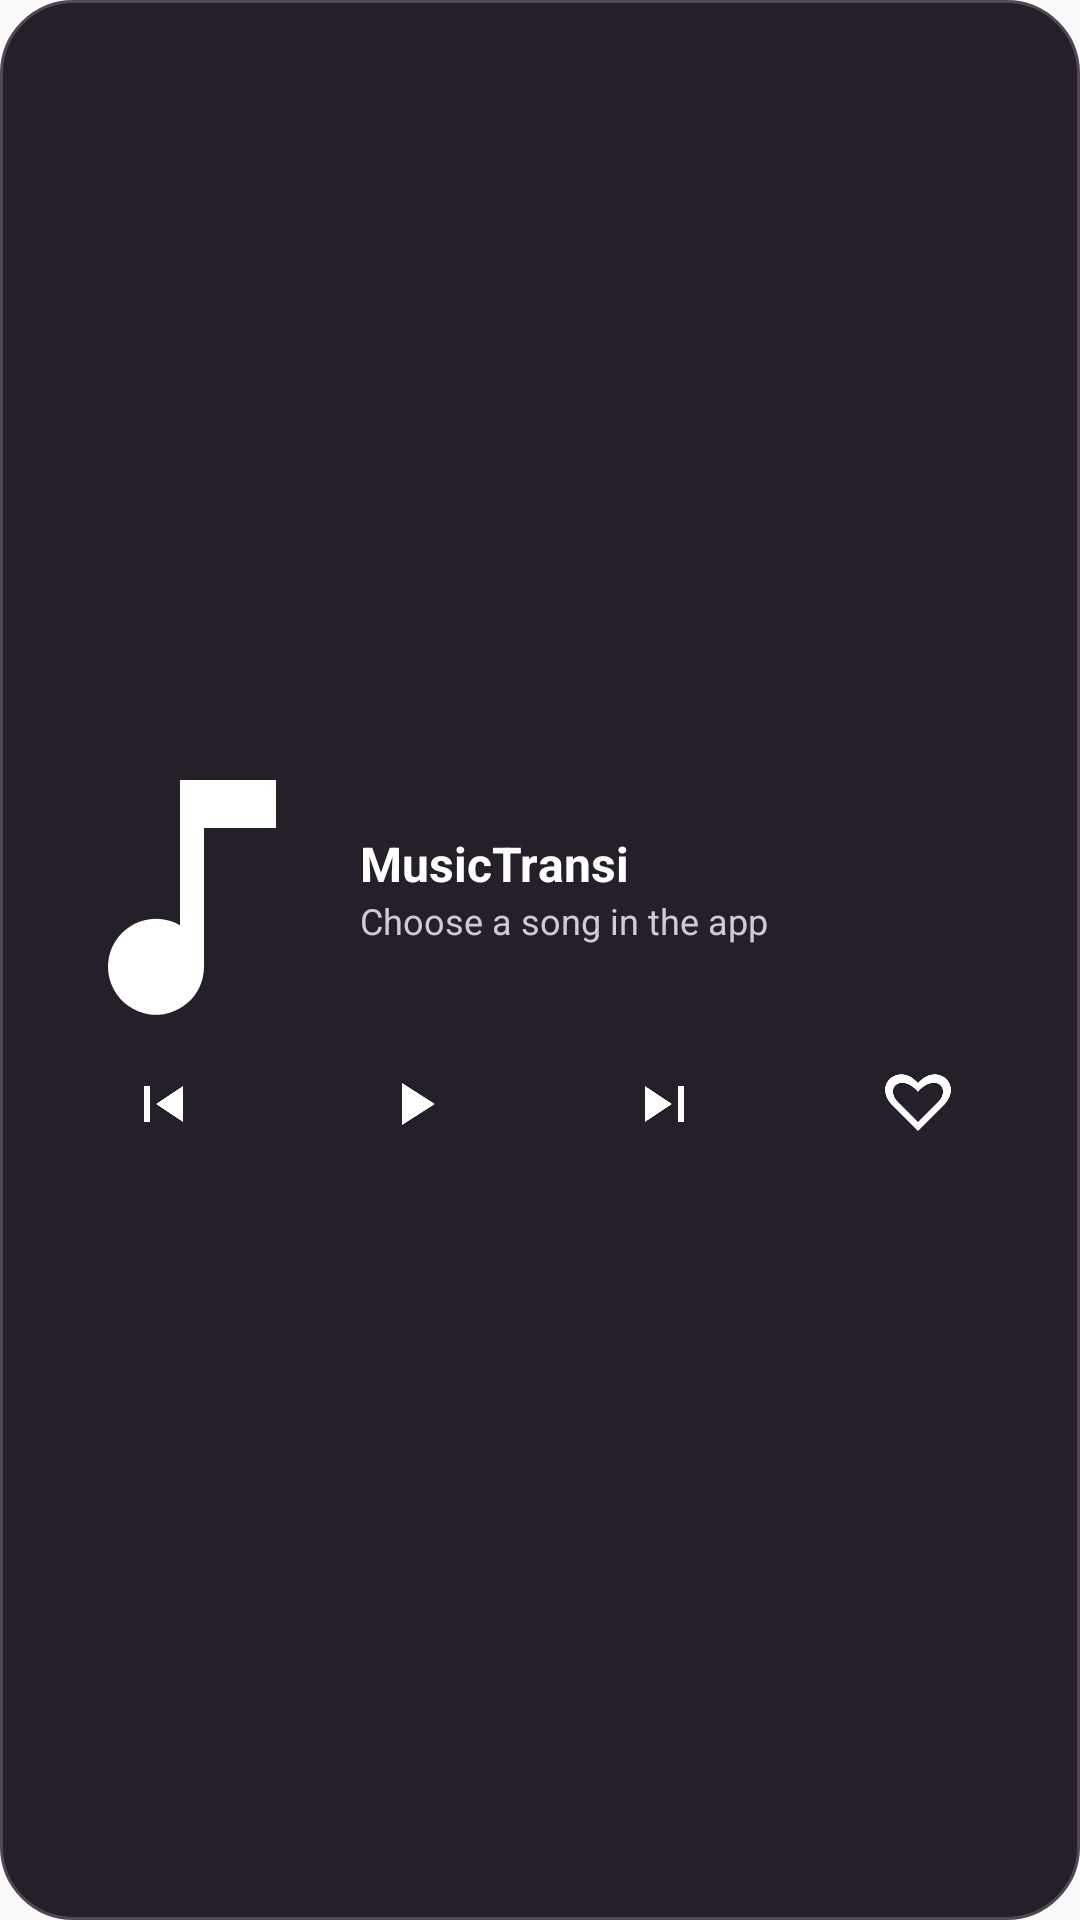

Named icons in this screenshot (1080px x 1920px) and their centers, (x=x, y=y):
Like song: (x=918, y=1102)
Next: (x=664, y=1104)
Play: (x=418, y=1104)
Previous: (x=163, y=1104)
